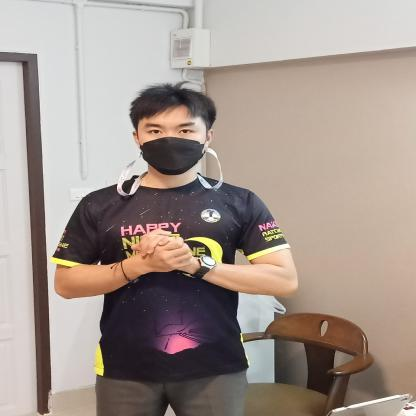Grieve: (96, 209, 283, 300)
